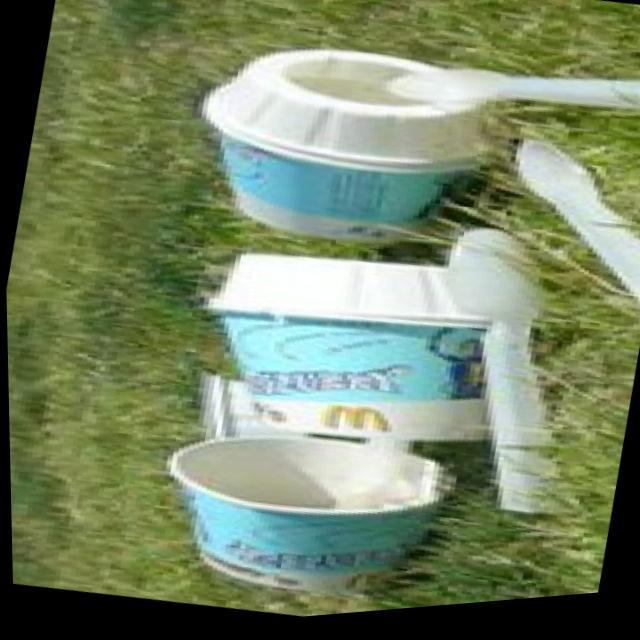leaf: (162, 214, 511, 372), (184, 18, 500, 192), (463, 241, 594, 548), (475, 134, 640, 349)
trash: (154, 410, 453, 630), (159, 116, 493, 284), (214, 291, 487, 470)
